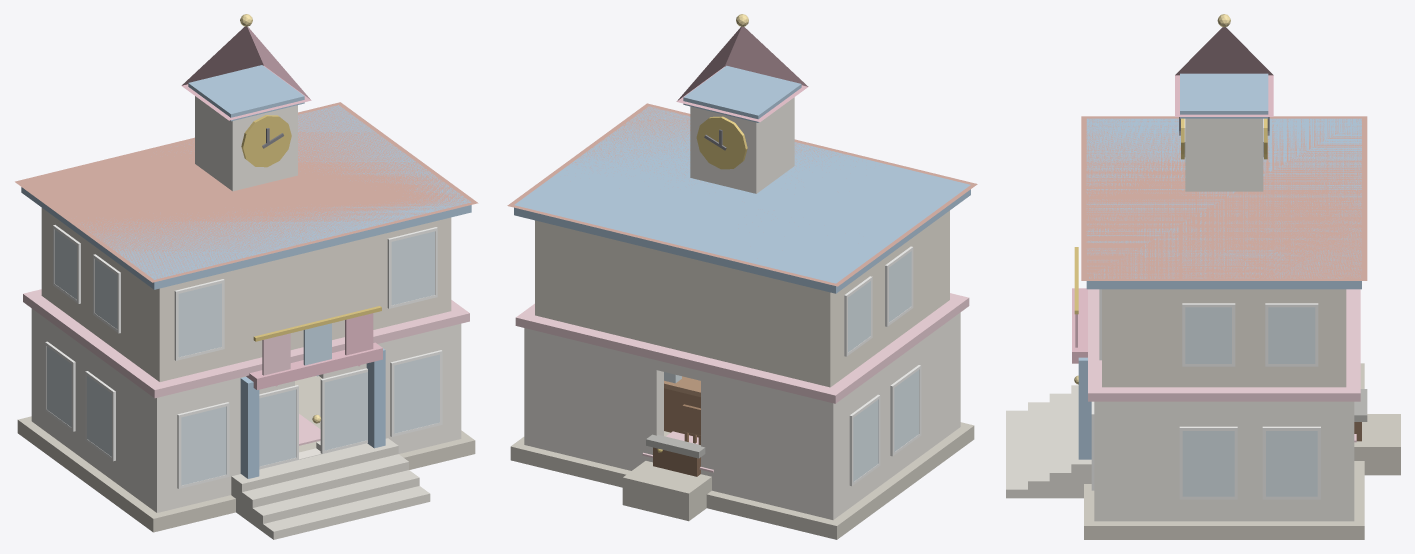
File: radnice.glb
3 views of the same model, side by side, from view 1: azimuth 30°, elevation 25°; view 2: azimuth 150°, elevation 25°; view 3: azimuth 270°, elevation 25° (orthographic). The views are drawn at different scales.
Visible parts, largest first — view 1: Radnice_roof, Radnice_blue2, Radnice_plaster, Radnice_plaster2, Radnice_glass, Radnice_stone, Radnice_pink, Radnice_white, Radnice_stone2, Radnice_pink2, Radnice_gold2, Radnice_blue; view 2: Radnice_plaster, Radnice_blue2, Radnice_plaster2, Radnice_stone2, Radnice_pink, Radnice_glass, Radnice_roof, Radnice_pink2, Radnice_white, Radnice_gold2, Radnice_wood2, Radnice_darkwood (+1 smaller); view 3: Radnice_roof, Radnice_plaster, Radnice_blue2, Radnice_plaster2, Radnice_glass, Radnice_stone2, Radnice_stone, Radnice_pink, Radnice_white, Radnice_pink2, Radnice_gold2.
Boxes of the visible parts, <box> form: Radnice_roof: <box>15,102,478,282</box>; Radnice_blue2: <box>21,65,471,478</box>; Radnice_plaster: <box>31,96,461,512</box>; Radnice_plaster2: <box>41,208,451,381</box>; Radnice_glass: <box>47,229,439,485</box>; Radnice_stone: <box>231,438,430,539</box>; Radnice_pink: <box>23,289,469,445</box>; Radnice_white: <box>45,225,442,488</box>; Radnice_stone2: <box>17,376,475,532</box>; Radnice_pink2: <box>181,26,382,389</box>; Radnice_gold2: <box>241,115,381,341</box>; Radnice_blue: <box>303,323,331,376</box>; Radnice_plaster: <box>524,97,960,519</box>; Radnice_blue2: <box>514,65,970,293</box>; Radnice_plaster2: <box>535,210,949,387</box>; Radnice_stone2: <box>510,422,974,539</box>; Radnice_pink: <box>515,293,969,472</box>; Radnice_glass: <box>664,251,919,481</box>; Radnice_roof: <box>507,103,977,286</box>; Radnice_pink2: <box>676,26,808,121</box>; Radnice_white: <box>844,246,921,486</box>; Radnice_gold2: <box>657,116,747,452</box>; Radnice_wood2: <box>664,388,700,444</box>; Radnice_darkwood: <box>653,447,700,476</box>; Radnice_roof: <box>1081,116,1367,280</box>; Radnice_plaster: <box>1094,118,1354,521</box>; Radnice_blue2: <box>1078,73,1361,459</box>; Radnice_plaster2: <box>1102,289,1346,387</box>; Radnice_glass: <box>1182,307,1317,496</box>; Radnice_stone2: <box>1084,363,1400,539</box>; Radnice_stone: <box>1006,385,1091,498</box>; Radnice_pink: <box>1088,289,1360,442</box>; Radnice_white: <box>1091,118,1320,499</box>; Radnice_pink2: <box>1072,27,1273,363</box>; Radnice_gold2: <box>1074,118,1267,314</box>.
Bounding box in the file's own units: 7.5 × 9.43 × 7.6.
